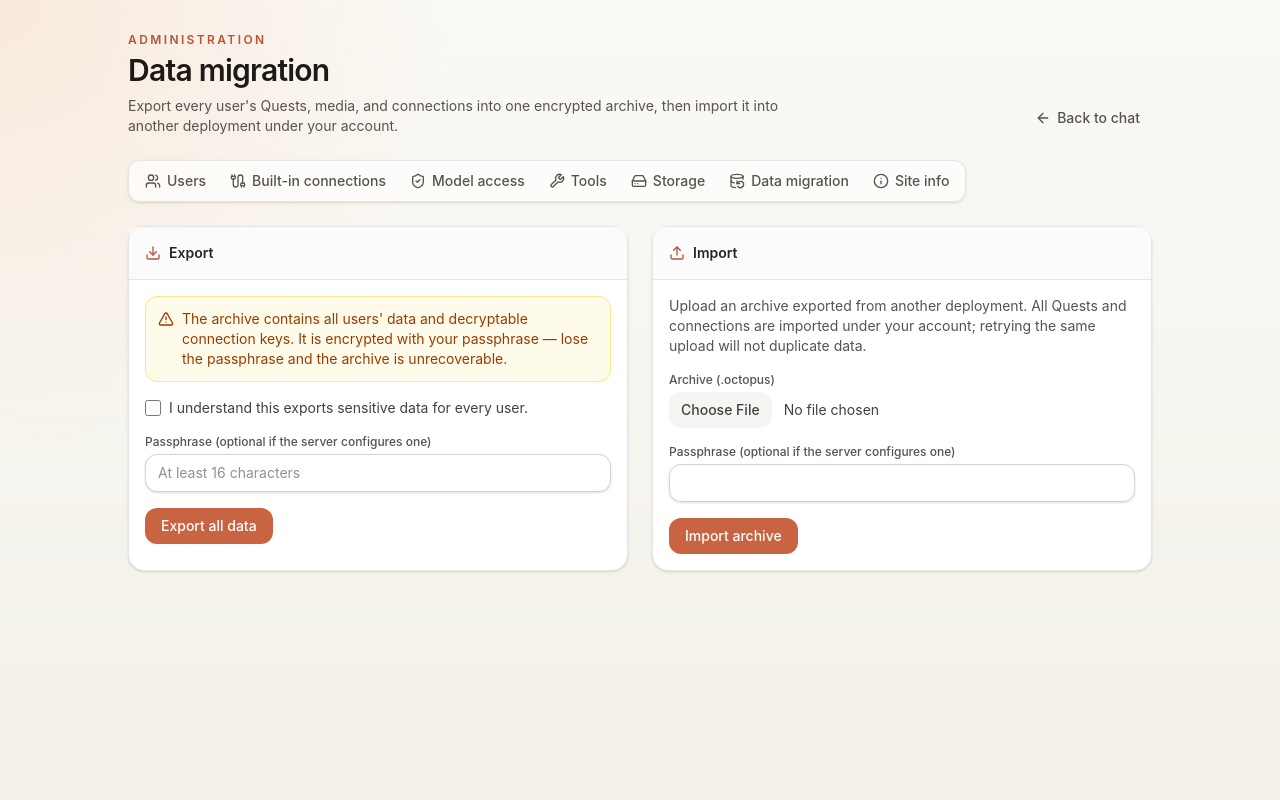
Test: MigrationPage › blocks a passphrase/confirmation mismatch
Step 1. Click the checkbox labelled "I understand this exports sensitive data for every user." → [153, 408], box [145,400,161,416]
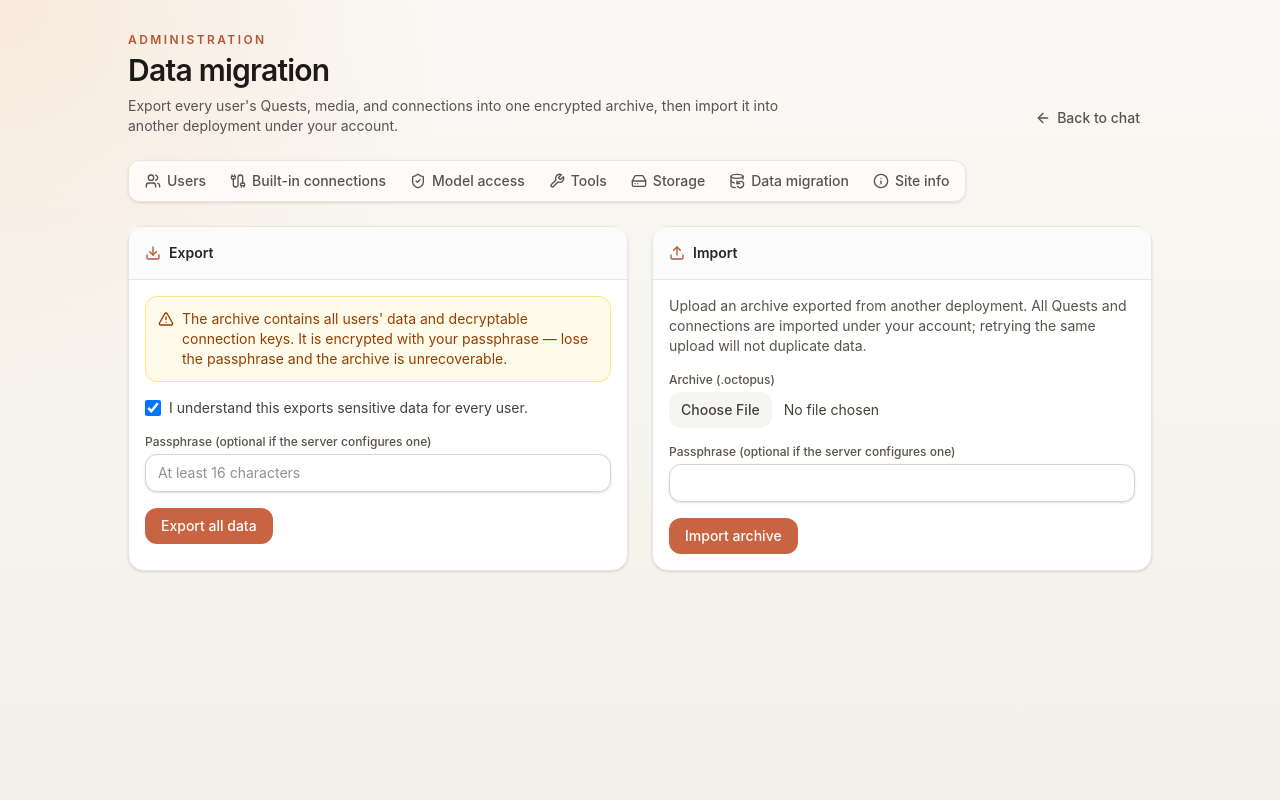
Step 2. Type "a-very-long-passphrase-123" into the password field with placeholder "At least 16 characters" → [378, 473], box [145,454,611,492]
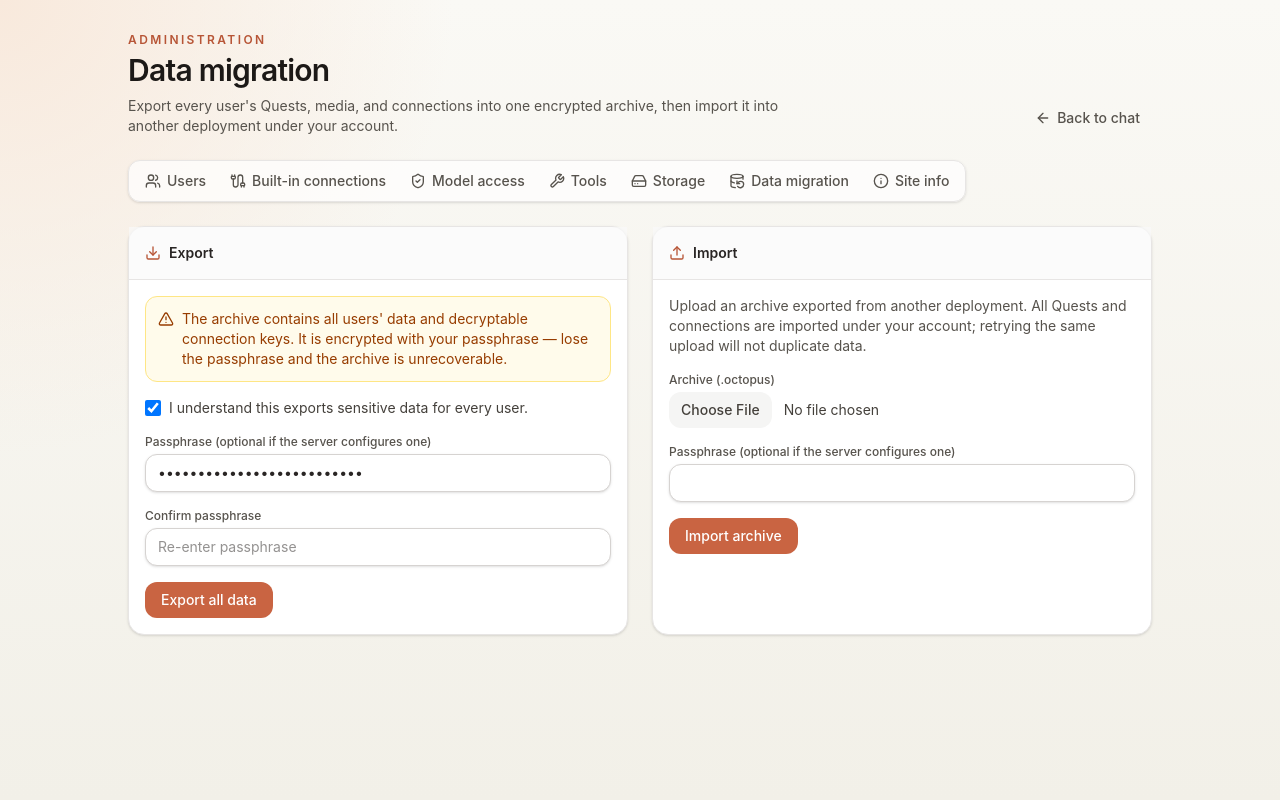
Step 3. Type "different-but-long-enough" into the password field with placeholder "Re-enter passphrase" → [378, 547], box [145,528,611,566]
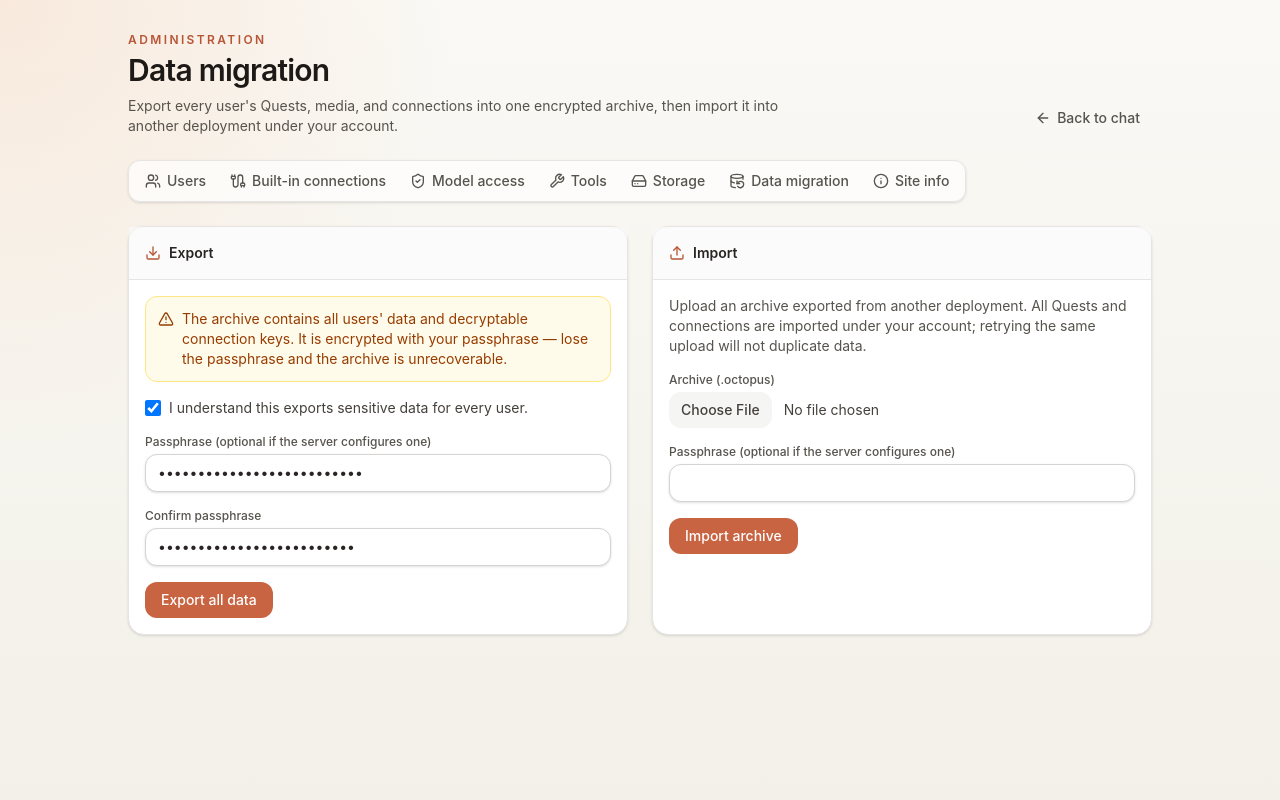
Step 4. Click the button "Export all data" → [209, 600], box [145,582,273,618]
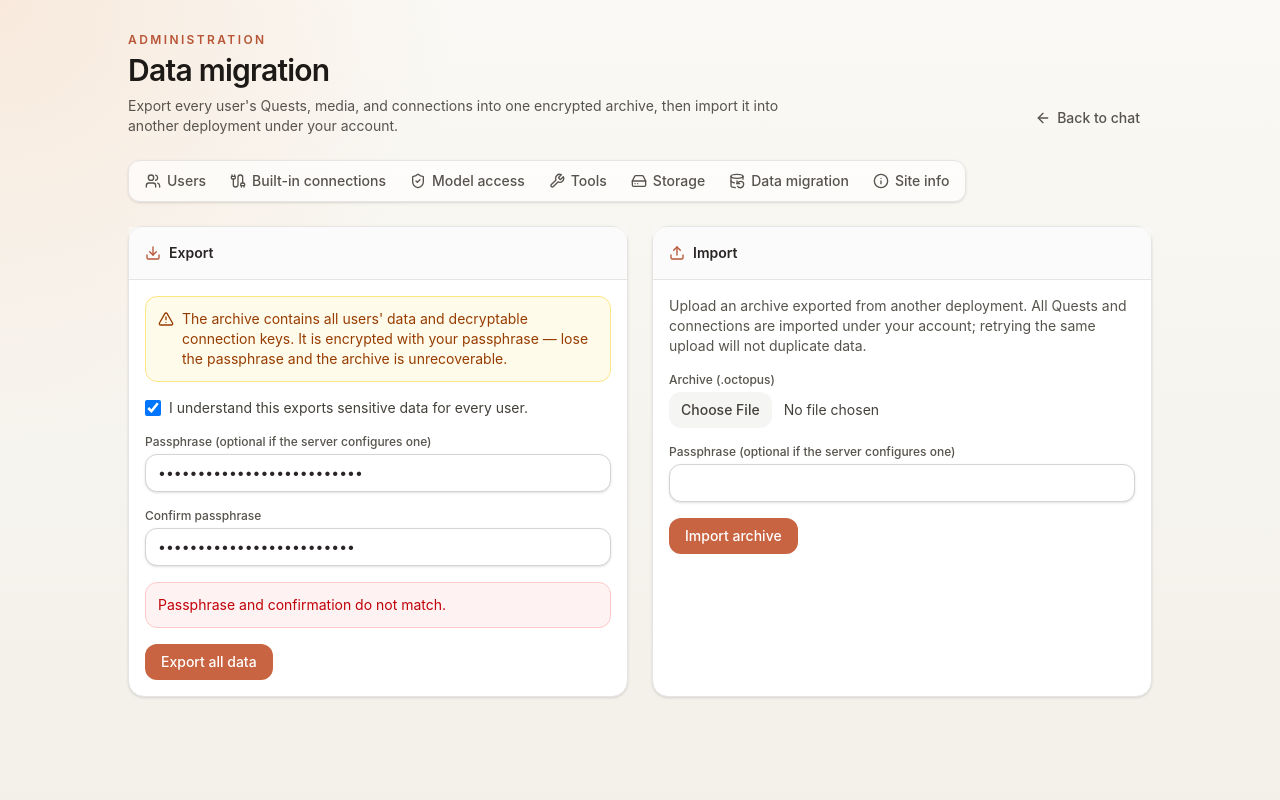
Expected: the text "Passphrase and confirmation do not match." is shown, [145,582,611,628]
